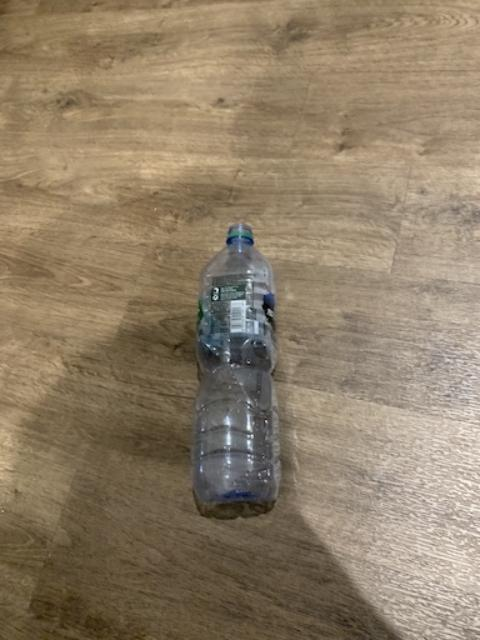plastic: (190, 221, 278, 516)
